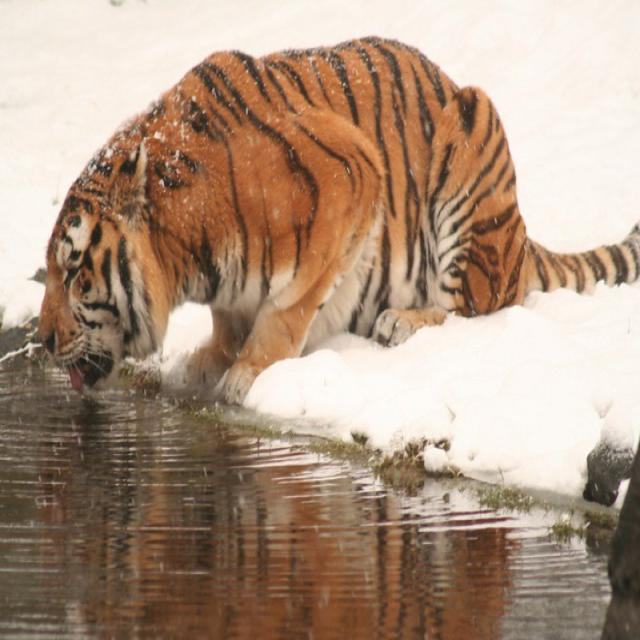Tiger: (31, 32, 638, 413)
